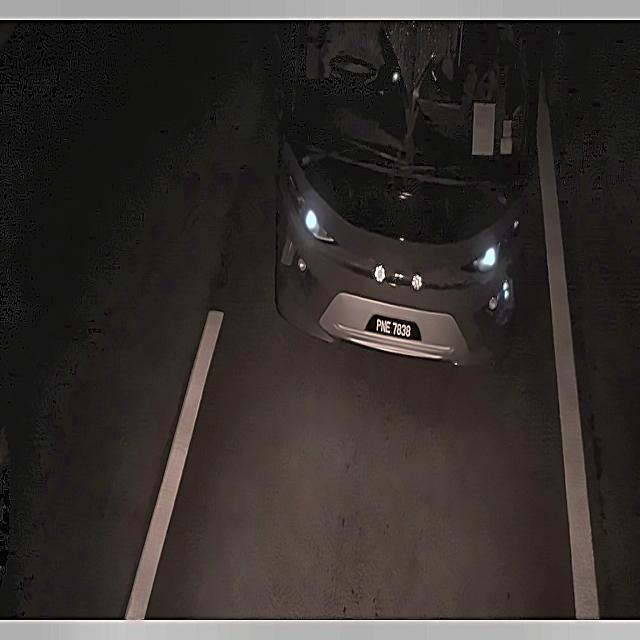car: (362, 308, 424, 345)
